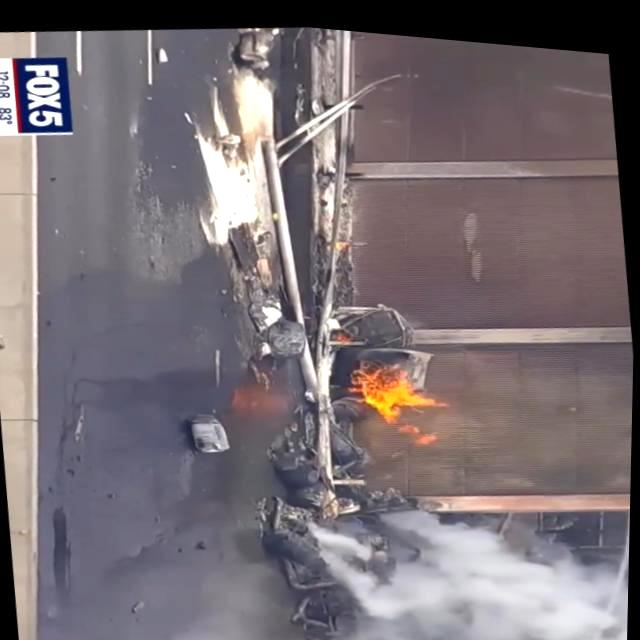fire: (356, 366, 448, 446)
